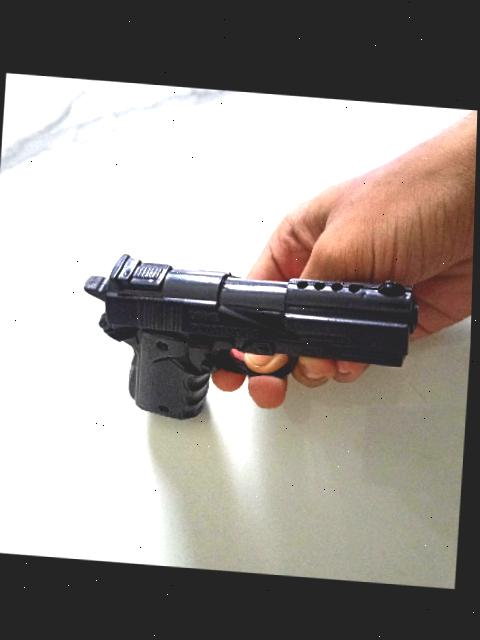pistol: (74, 252, 421, 432)
